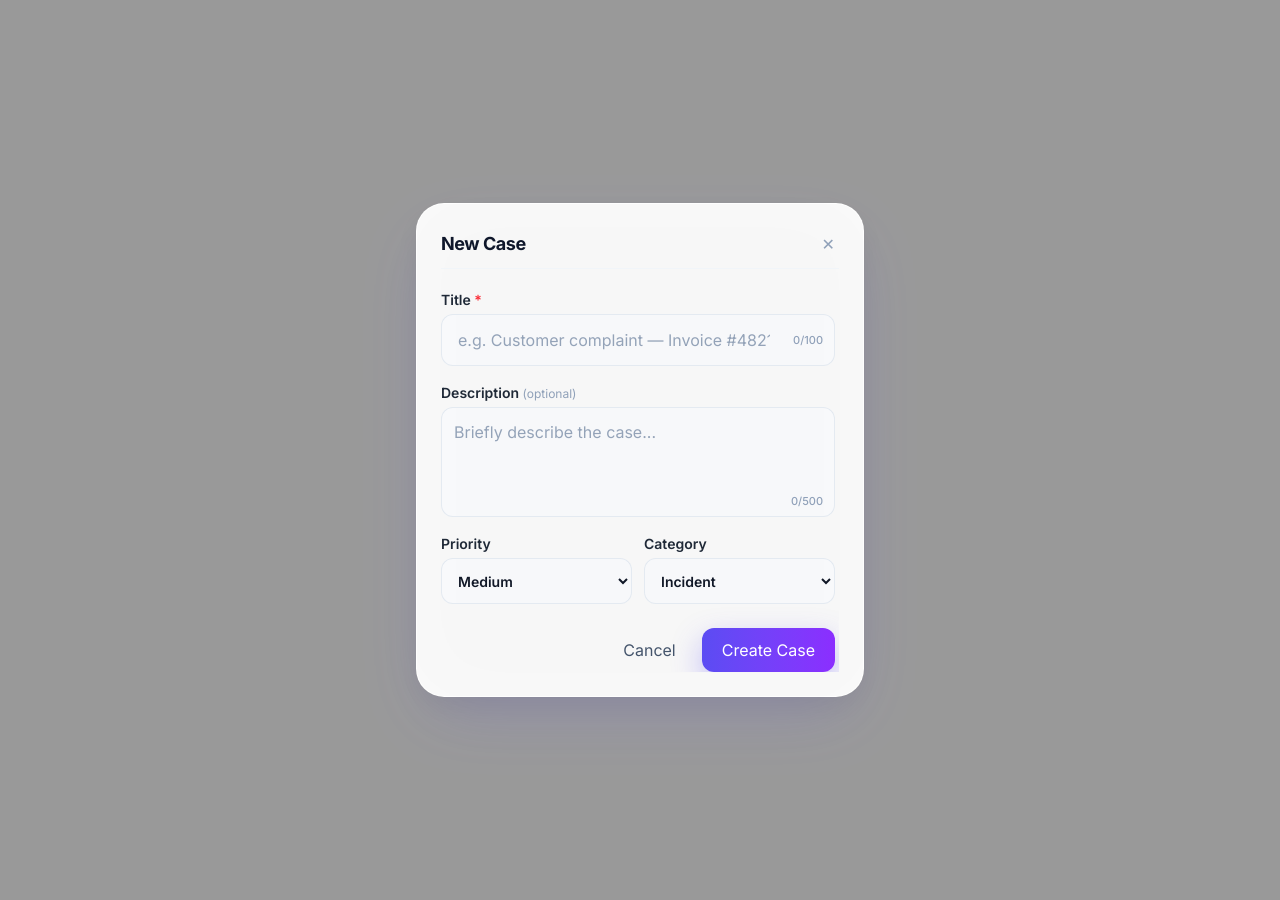
it: CreateCaseModal — validation › clears title error when user starts typing
The width and height of the screenshot is (1280, 900).
Click the button "Create Case" at (768, 650), box 702,628 -> 835,672
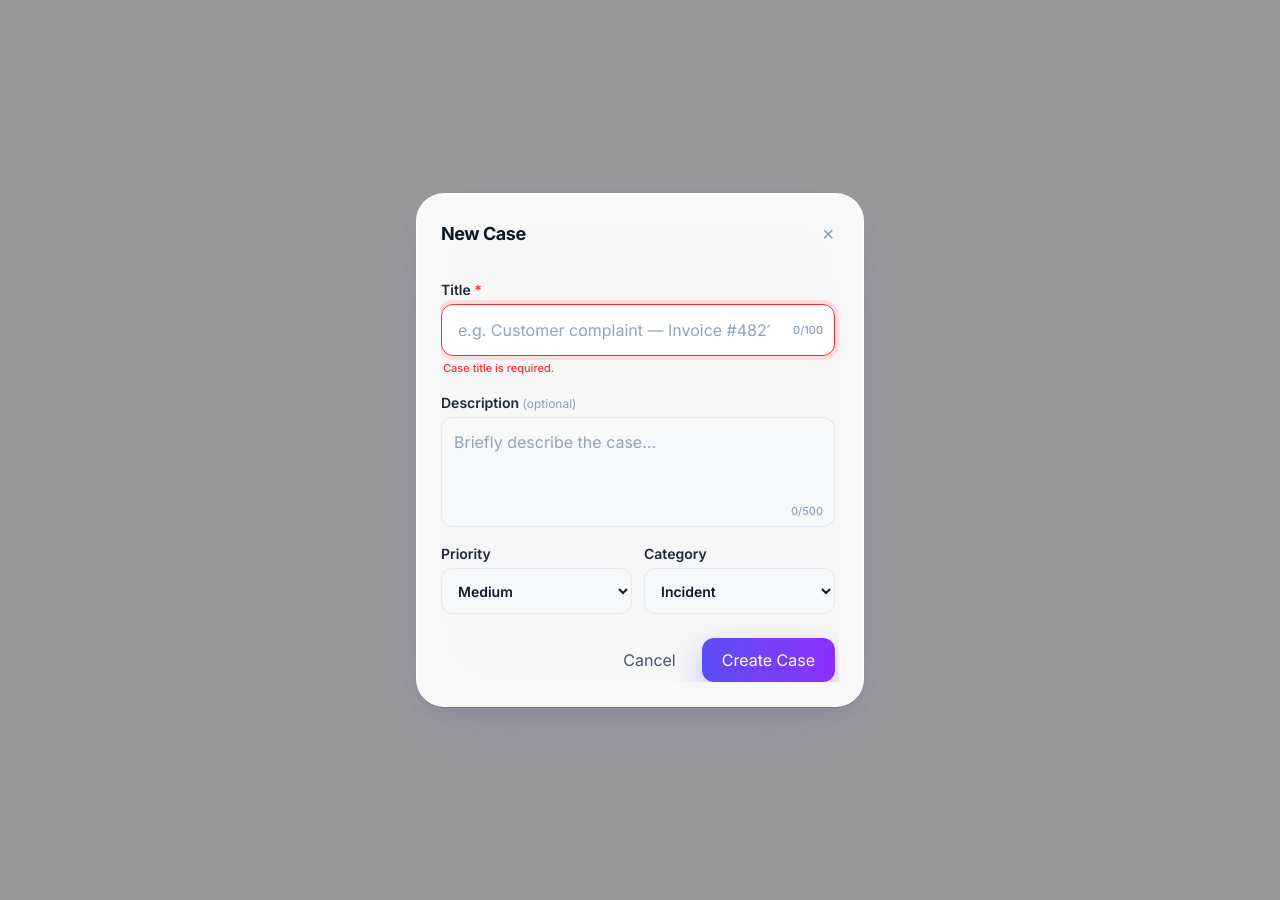
Expected: the message "Case title is required." is shown, 443,361 -> 554,375
Type "A" into the field labelled "Title *" at (638, 330), box 441,304 -> 835,356
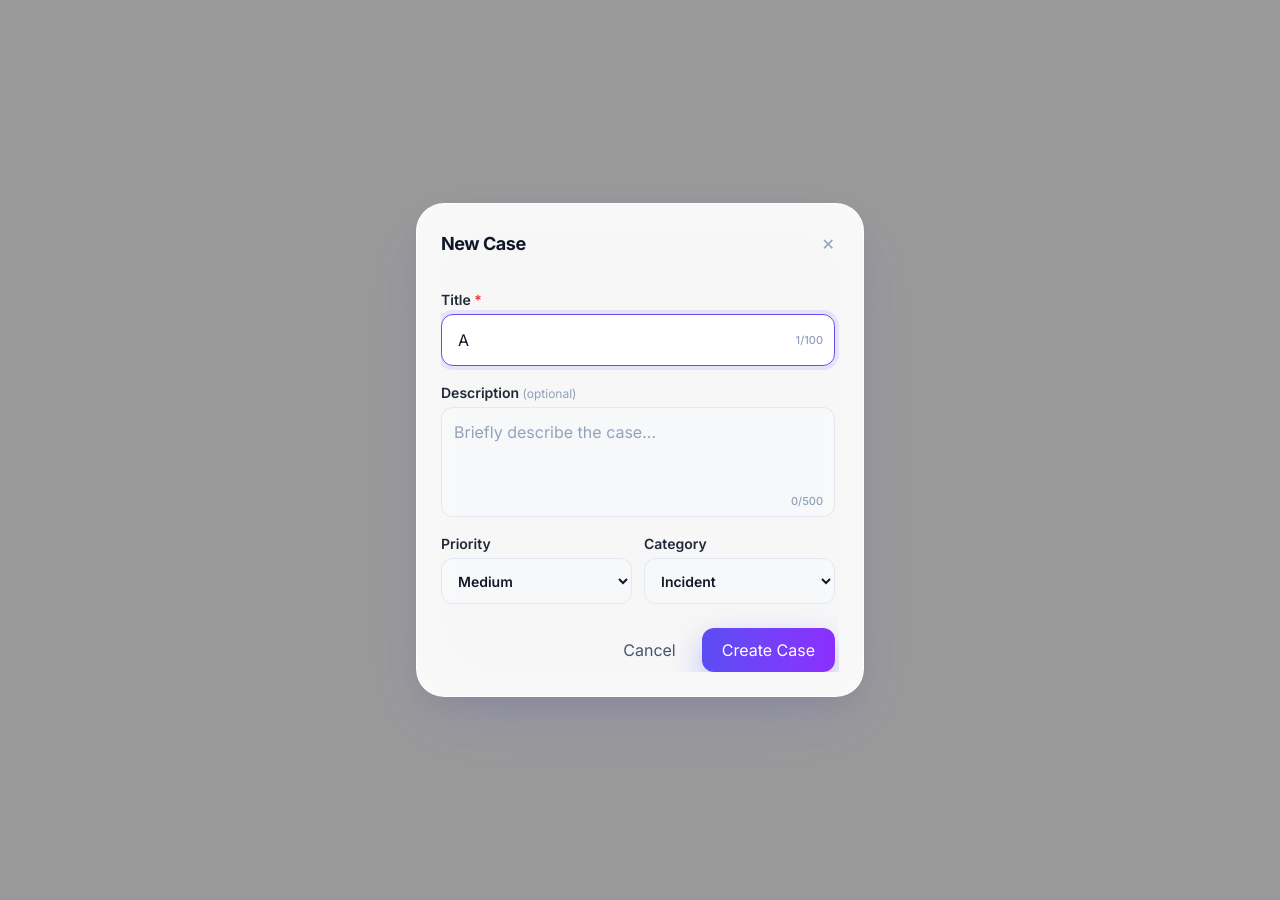
Expected: the message "Case title is required." is gone
